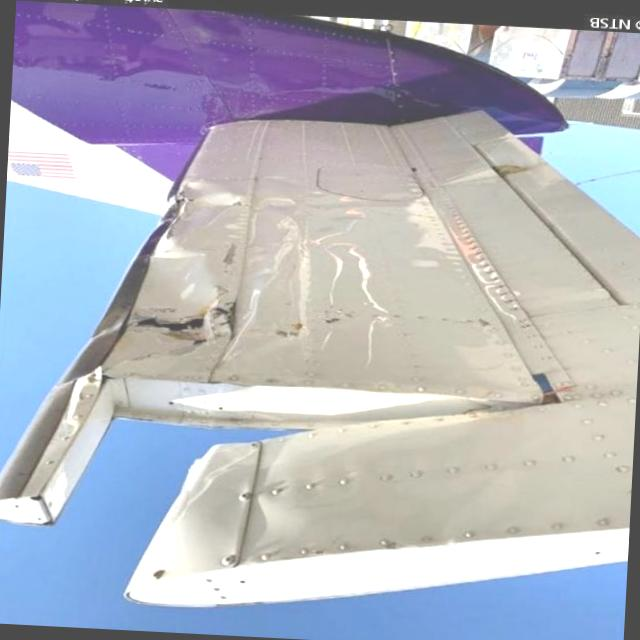dent: (165, 177, 251, 222)
